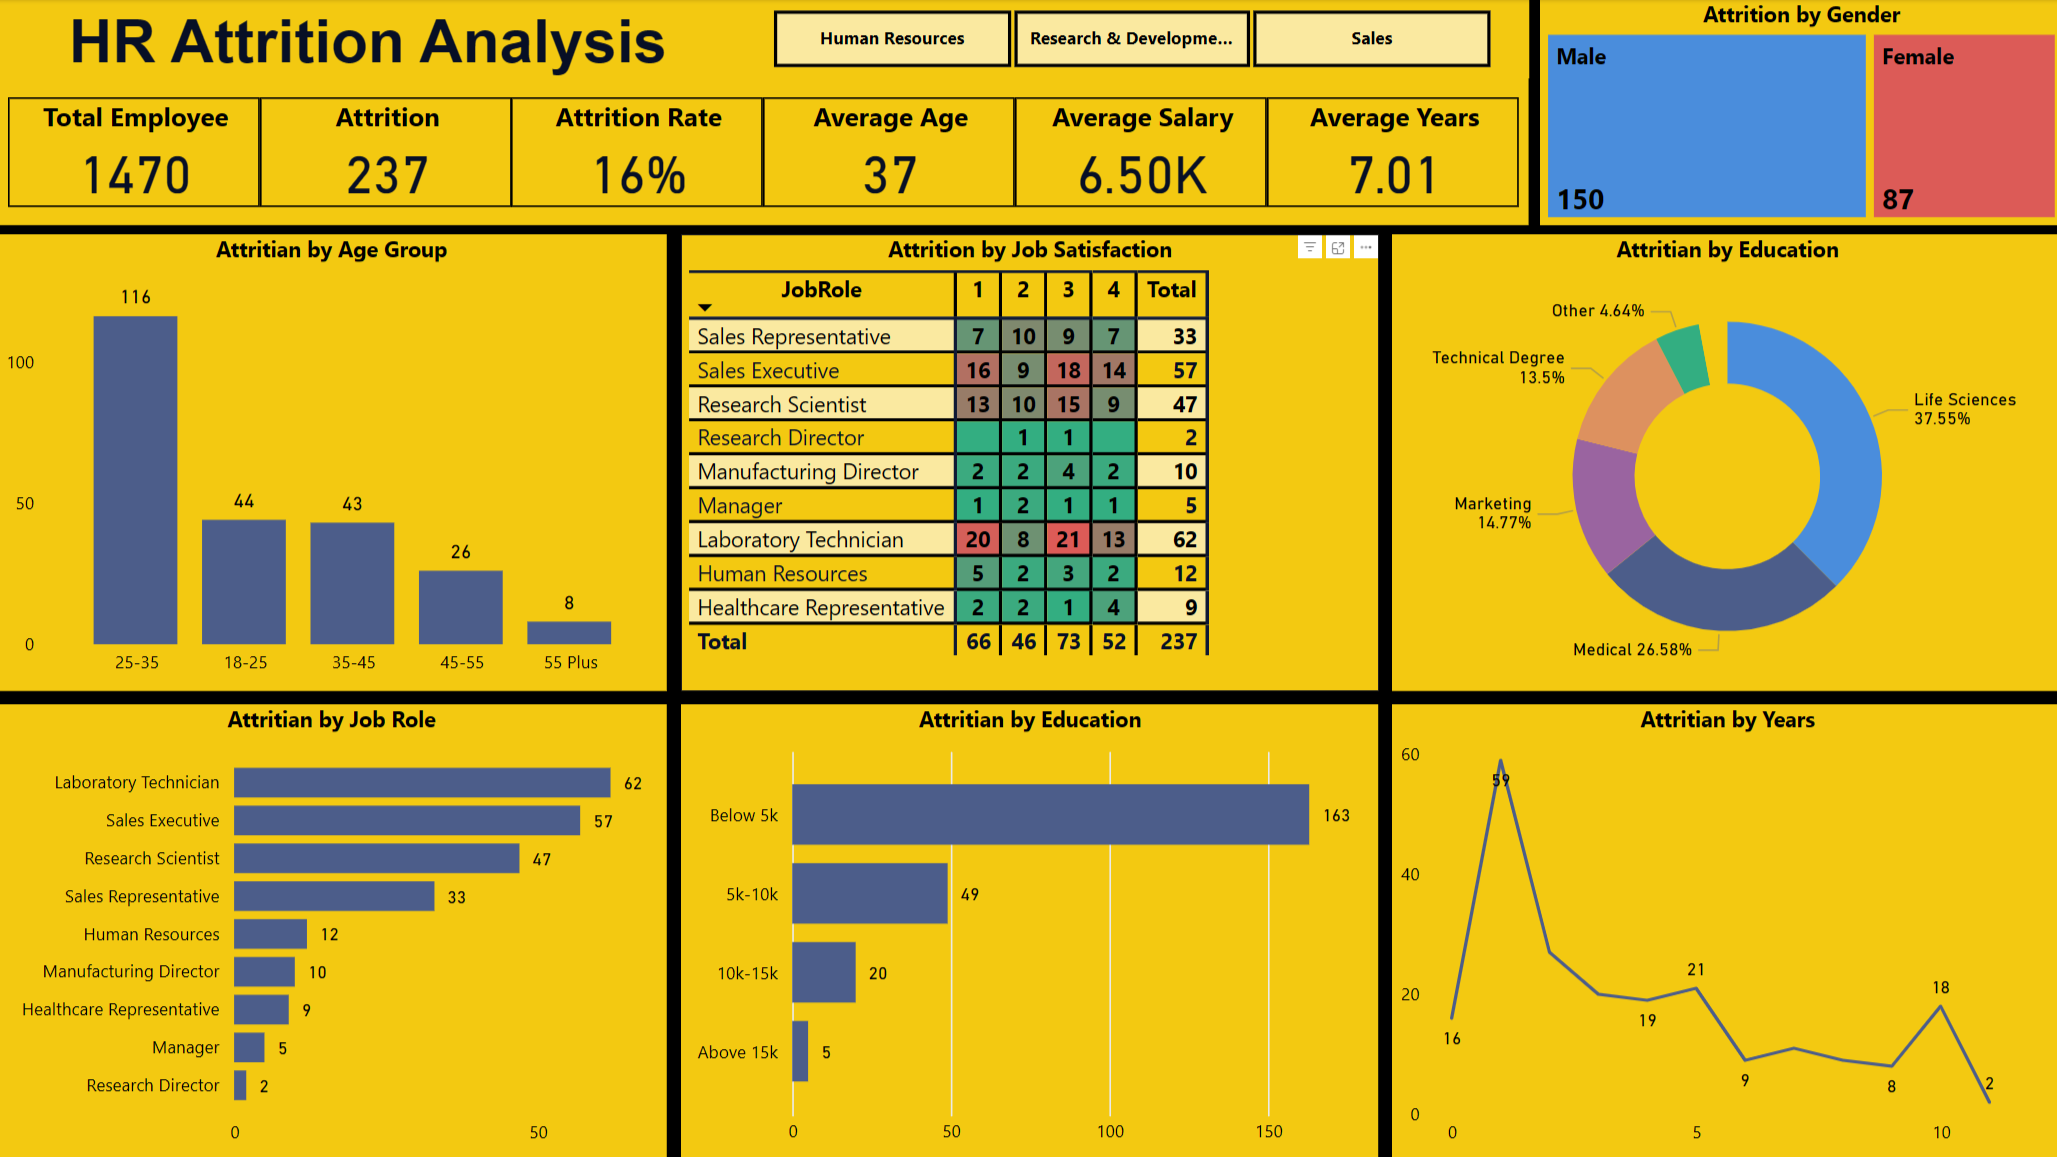

The dashboard page shown, as its layout file describes it:
{"tool":"powerbi","page":{"name":"Page 1","canvas":[1280,720],"ordinal":0},"visuals":[{"type":"textbox","box":[0,0,459.8,53.3],"z":0},{"type":"slicer","fields":{"Values":["HR_Project_Power BI.Department"]},"box":[455.4,0,493.8,49],"z":1000},{"type":"textbox","box":[0,49,949.3,91.1],"z":2000},{"type":"card","title":"Average Age","fields":{"Values":["DAX_Measures.Average Age"]},"box":[474.6,60.7,156.1,68.2],"z":3000},{"type":"card","title":"Average Salary","fields":{"Values":["DAX_Measures.Average Income"]},"box":[630.8,60.7,156.1,68.2],"z":4000},{"type":"card","title":"Average Years","fields":{"Values":["DAX_Measures.Average Work Years"]},"box":[786.9,60.7,156.1,68.2],"z":5000},{"type":"card","title":"Attrition Rate","fields":{"Values":["DAX_Measures.Attritian Rate"]},"box":[318.5,60.7,156.1,68.2],"z":6000},{"type":"card","title":"Attrition","fields":{"Values":["DAX_Measures.Attritian"]},"box":[163,60.7,156.1,68.2],"z":7000},{"type":"card","title":"Total Employee","fields":{"Values":["DAX_Measures.Total Employee"]},"box":[6.8,60.7,156.1,68.2],"z":8000},{"type":"donutChart","title":"Attritian by Education","fields":{"Category":["HR_Project_Power BI.EducationField"],"Y":["DAX_Measures.Attritian"]},"box":[864.4,145.6,415.8,283.2],"z":9000},{"type":"barChart","title":"Attritian by Education","fields":{"Y":["DAX_Measures.Attrition"],"Category":["HR_Project_Power BI.Income Group"]},"box":[423.8,436.8,432.5,283.2],"z":10000},{"type":"pivotTable","title":"Attrition by Job Satisfaction","fields":{"Values":["DAX_Measures.Attrition"],"Columns":["HR_Project_Power BI.JobSatisfaction"],"Rows":["HR_Project_Power BI.JobRole"]},"box":[423.8,145.6,432.5,283.2],"z":11000},{"type":"columnChart","title":"Attritian by Age Group","fields":{"Y":["DAX_Measures.Attritian"],"Category":["HR_Project_Power BI.Age Group"]},"box":[0,145.6,414.5,283.2],"z":12000},{"type":"barChart","title":"Attritian by Job Role","fields":{"Category":["HR_Project_Power BI.JobRole"],"Y":["DAX_Measures.Attrition"]},"box":[0,436.8,414.5,283.2],"z":13000},{"type":"lineChart","title":"Attritian by Years","fields":{"Y":["DAX_Measures.Attrition"],"Category":["HR_Project_Power BI.YearsAtCompany"]},"box":[864.4,436.8,415.8,283.2],"z":14000},{"type":"treemap","fields":{"Values":["DAX_Measures.Attrition"],"Group":["HR_Project_Power BI.Gender"]},"box":[956.1,0,324.1,140],"z":15000}]}

Visuals, with their boxes in screenshot pixels (x1, y1, x2, y2), scaled from the page's 1280x720 canvas onto the 2057x1157 screenshot:
textbox: left=0, top=0, right=739, bottom=86
slicer - HR_Project_Power BI.Department: left=732, top=0, right=1525, bottom=79
textbox: left=0, top=79, right=1526, bottom=225
"Average Age" card: left=763, top=98, right=1014, bottom=207
"Average Salary" card: left=1014, top=98, right=1265, bottom=207
"Average Years" card: left=1265, top=98, right=1515, bottom=207
"Attrition Rate" card: left=512, top=98, right=763, bottom=207
"Attrition" card: left=262, top=98, right=513, bottom=207
"Total Employee" card: left=11, top=98, right=262, bottom=207
"Attritian by Education" donutChart: left=1389, top=234, right=2056, bottom=689
"Attritian by Education" barChart: left=681, top=702, right=1376, bottom=1156
"Attrition by Job Satisfaction" pivotTable: left=681, top=234, right=1376, bottom=689
"Attritian by Age Group" columnChart: left=0, top=234, right=666, bottom=689
"Attritian by Job Role" barChart: left=0, top=702, right=666, bottom=1156
"Attritian by Years" lineChart: left=1389, top=702, right=2056, bottom=1156
treemap - DAX_Measures.Attrition x HR_Project_Power BI.Gender: left=1536, top=0, right=2056, bottom=225
